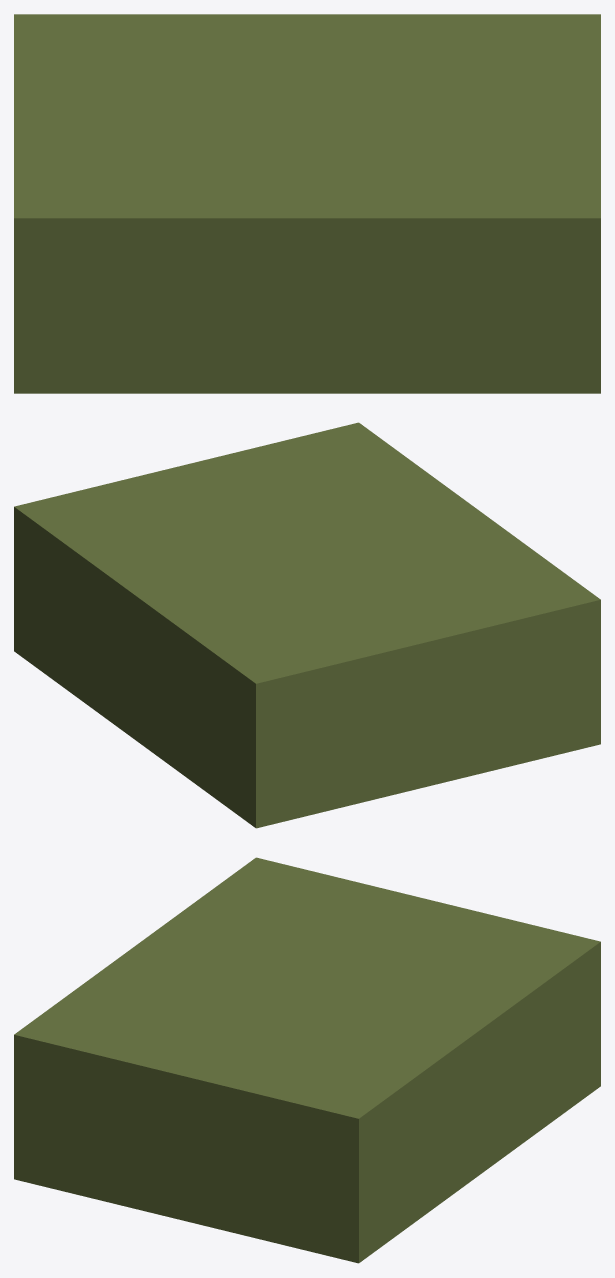
File: ground_18.fbx
The picture shows the model from 3 angles, top to bottom: view 1: azimuth 30°, elevation 25°; view 2: azimuth 150°, elevation 25°; view 3: azimuth 270°, elevation 25°; orthographic projection. The views are drawn at different scales.
Parts seen in each view (by area): view 1: ground_18; view 2: ground_18; view 3: ground_18.
Boxes of the visible parts, x1,y1,x2,y2 form: ground_18: (14, 14, 600, 393); ground_18: (14, 422, 600, 828); ground_18: (14, 857, 600, 1263).
Bounding box in the file's own units: 6.74 × 1.74 × 6.4.
